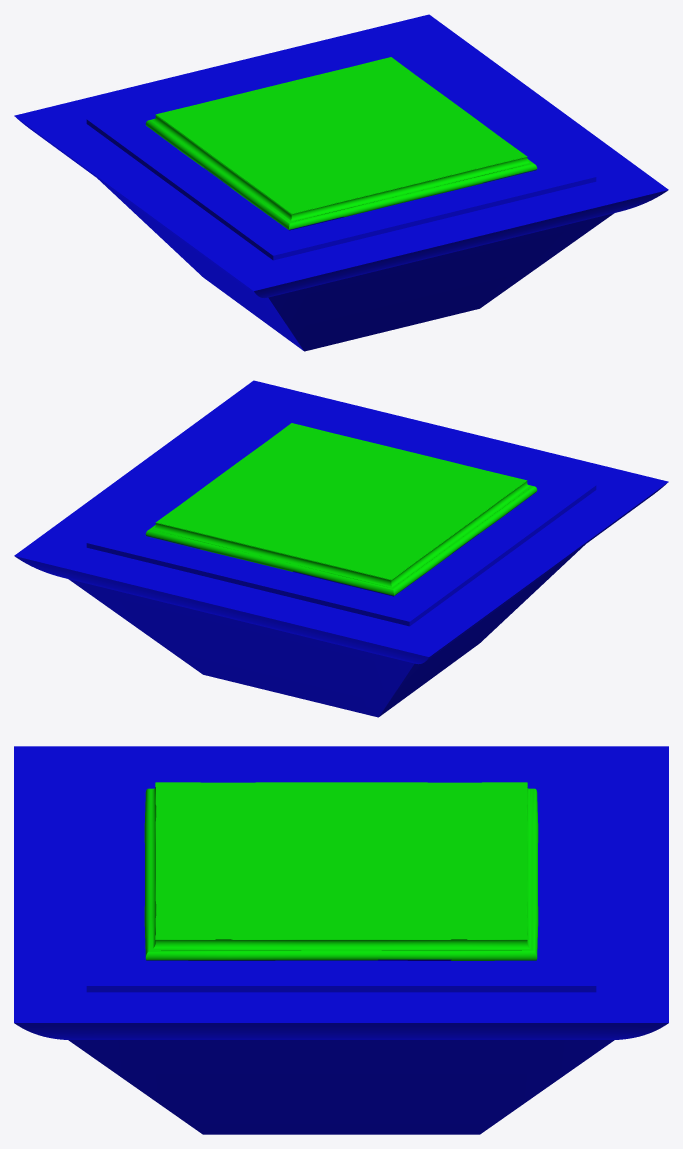
File: Table OBJ.fbx
The picture shows the model from 3 angles, top to bottom: view 1: azimuth 30°, elevation 25°; view 2: azimuth 150°, elevation 25°; view 3: azimuth 270°, elevation 25°; orthographic projection. The views are drawn at different scales.
Parts seen in each view (by area): view 1: pCube1; view 2: pCube1; view 3: pCube1.
Boxes of the visible parts, left/top/right/bottom form: pCube1: left=14, top=14, right=668, bottom=351; pCube1: left=14, top=380, right=668, bottom=717; pCube1: left=14, top=746, right=668, bottom=1134.
Bounding box in the file's own units: 9.82 × 3.56 × 9.82.
